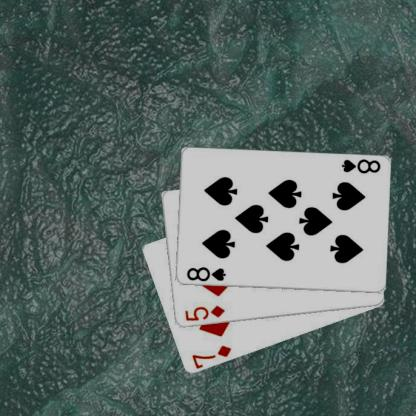5D: (182, 302, 226, 323)
7D: (189, 342, 233, 368)
8S: (184, 264, 227, 283), (338, 157, 381, 175)
